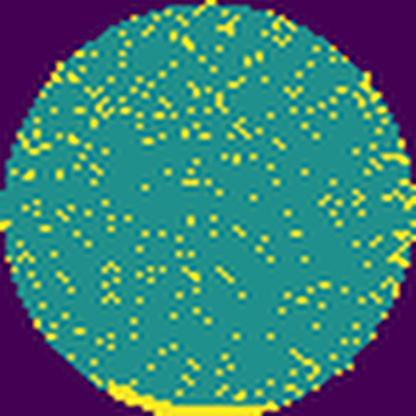Edge-Loc: (104, 378, 281, 416)
